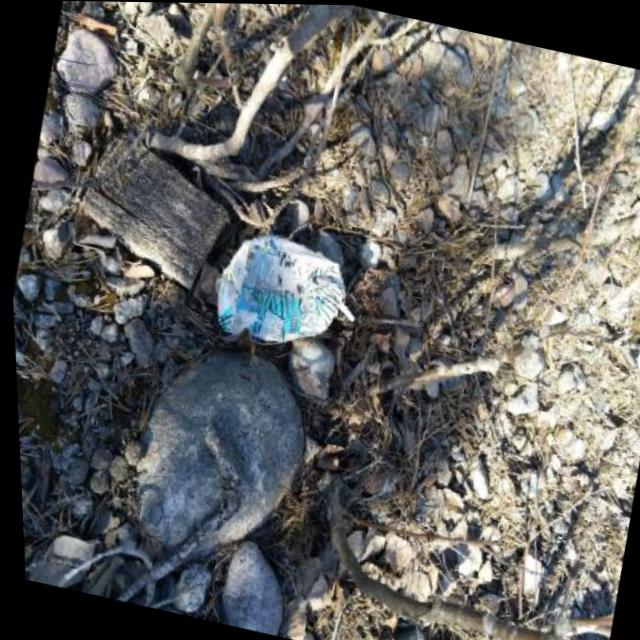cardboard: (199, 221, 369, 363)
